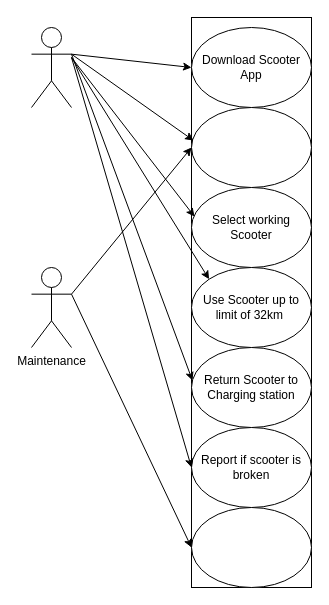
This 329x605 diagram has some shape labels left out. Here are the shapes that lost their labels. From the top down, the centre of each, then its label:
At (51,67): "End User".
At (251,147): "Go to Charging station".
At (251,547): "Fix broken scooter".
